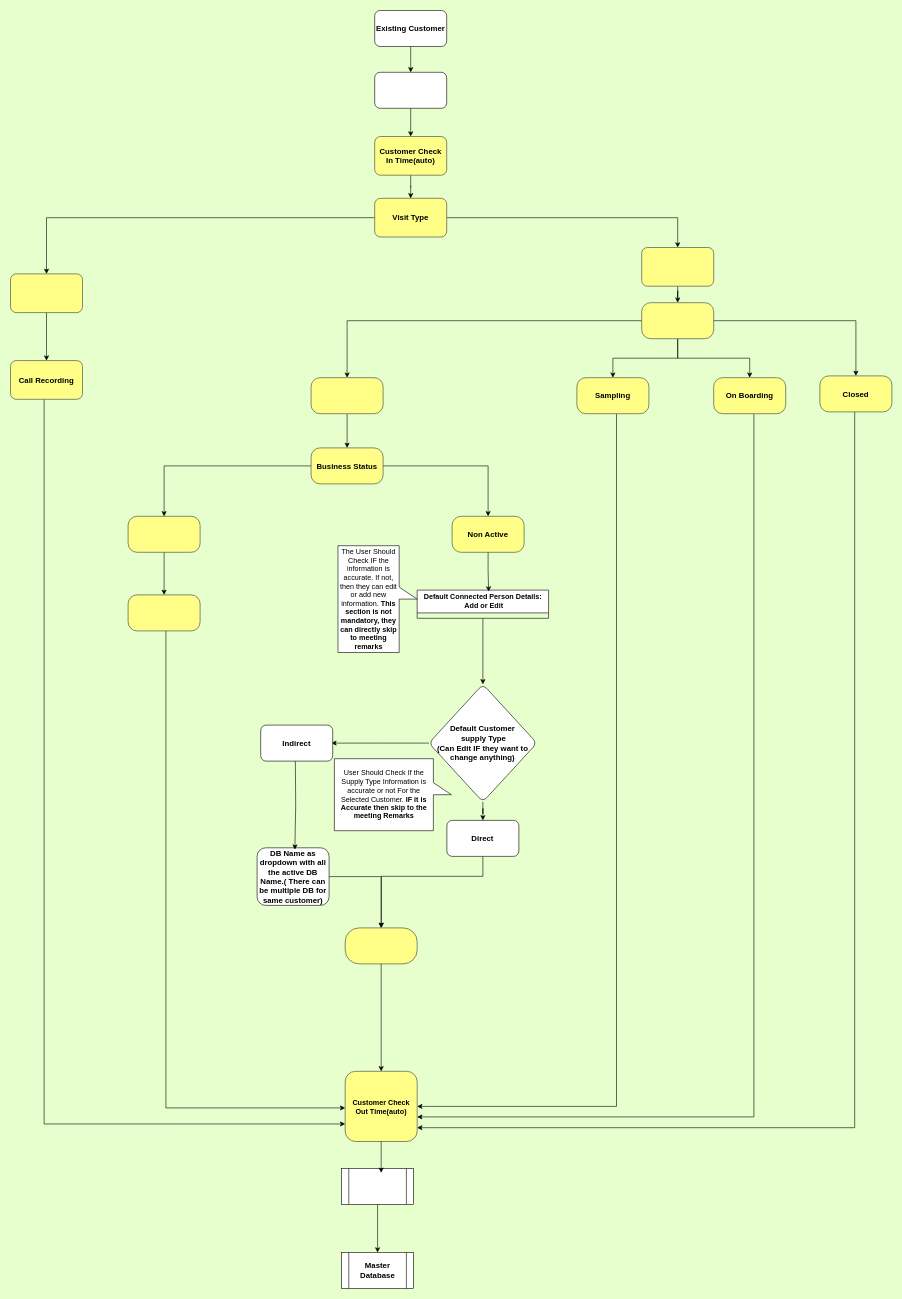
This 902x1299 diagram has some shape labels left out. The shapes that lost their labels are listed below. From the top down, each one's centre as x and y in pixels, then its label:
the point at 410,90: Customer Name
the point at 677,266: Physical Visit
the point at 46,293: Call
the point at 677,320: Purpose Of Visit
the point at 346,395: Visit
the point at 164,534: Active
the point at 164,612: Order Taking
the point at 381,945: Meeting Remarks
the point at 377,1186: Visit Database
